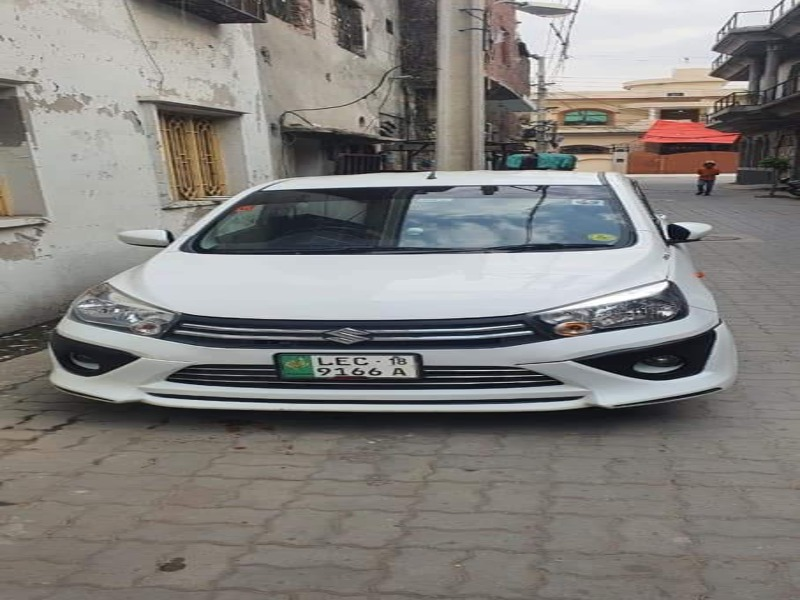License Plate: (271, 349, 429, 391)
